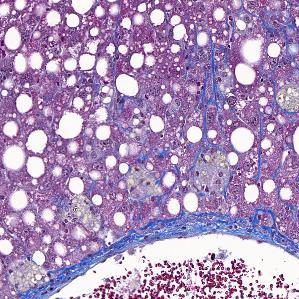fibrosis: (181, 155, 259, 236)
